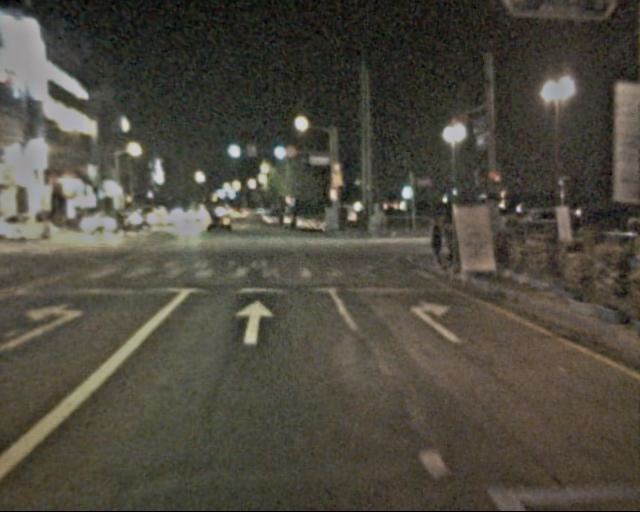person: (425, 210, 449, 271)
